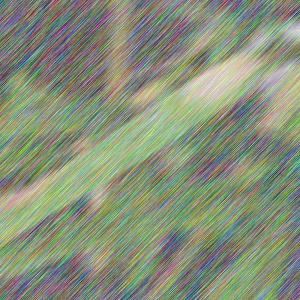Brown_Spot: (4, 167, 50, 222)
